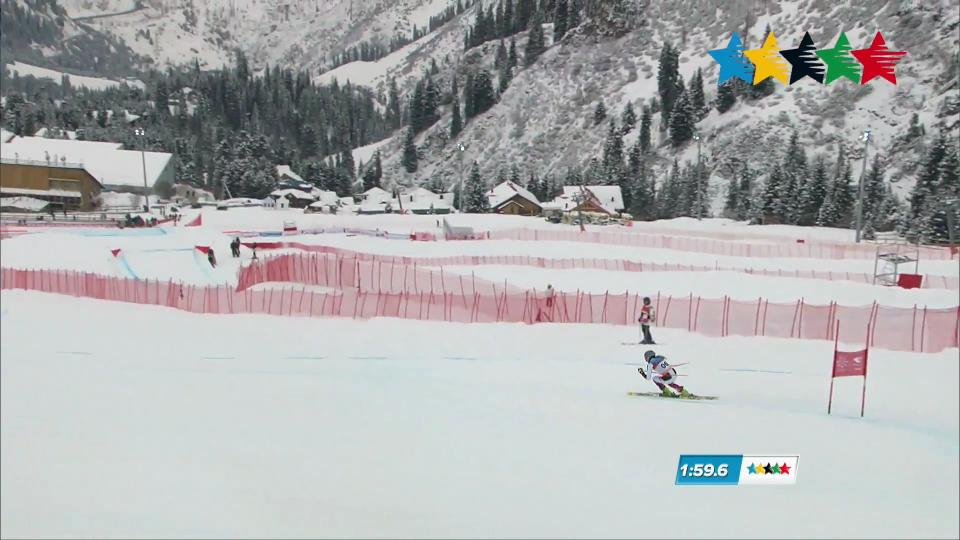gate: (848, 317, 875, 419), (827, 308, 842, 422)
